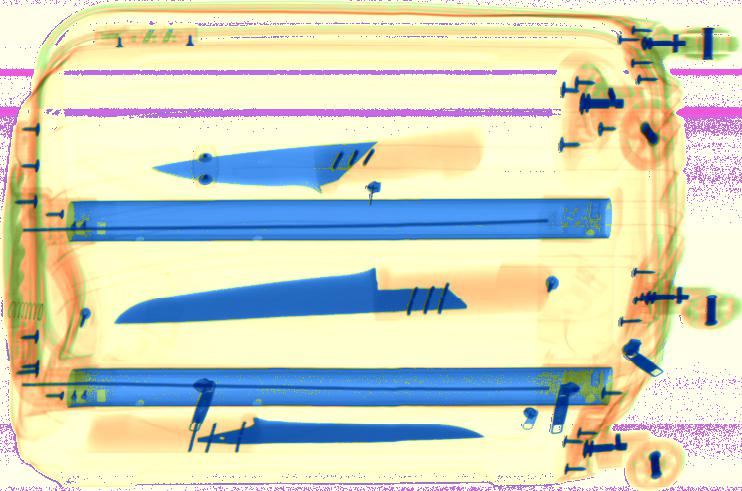Knife: (113, 263, 560, 327), (151, 130, 483, 195), (85, 412, 483, 454)
